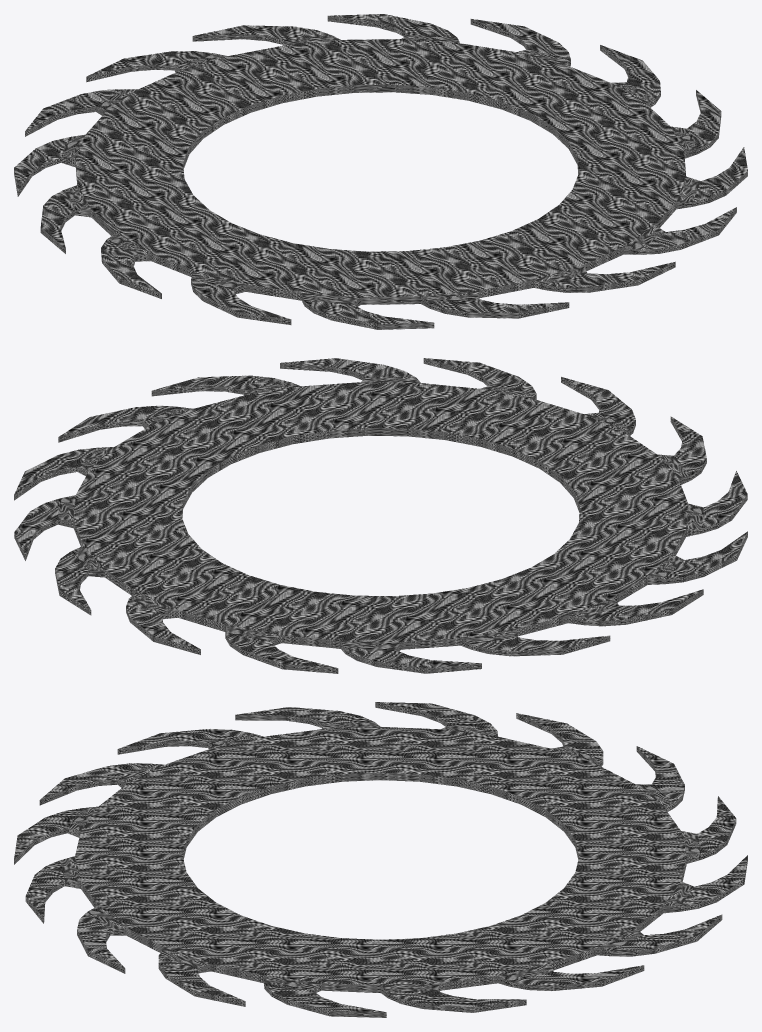
File: xenospace-asteroid-basefan.glb
3 views of the same model, one above another, from view 1: azimuth 30°, elevation 25°; view 2: azimuth 150°, elevation 25°; view 3: azimuth 270°, elevation 25° (orthographic).
Parts seen in each view (by area): view 1: BayFan; view 2: BayFan; view 3: BayFan.
Part boxes in pixels (box(x1,y1,x2,y2)): BayFan: box(14, 14, 747, 329); BayFan: box(14, 358, 747, 673); BayFan: box(14, 702, 747, 1017).
Bounding box in the file's own units: 0.7405 × 0.00874 × 0.7405.
1 material, 1 textured.
